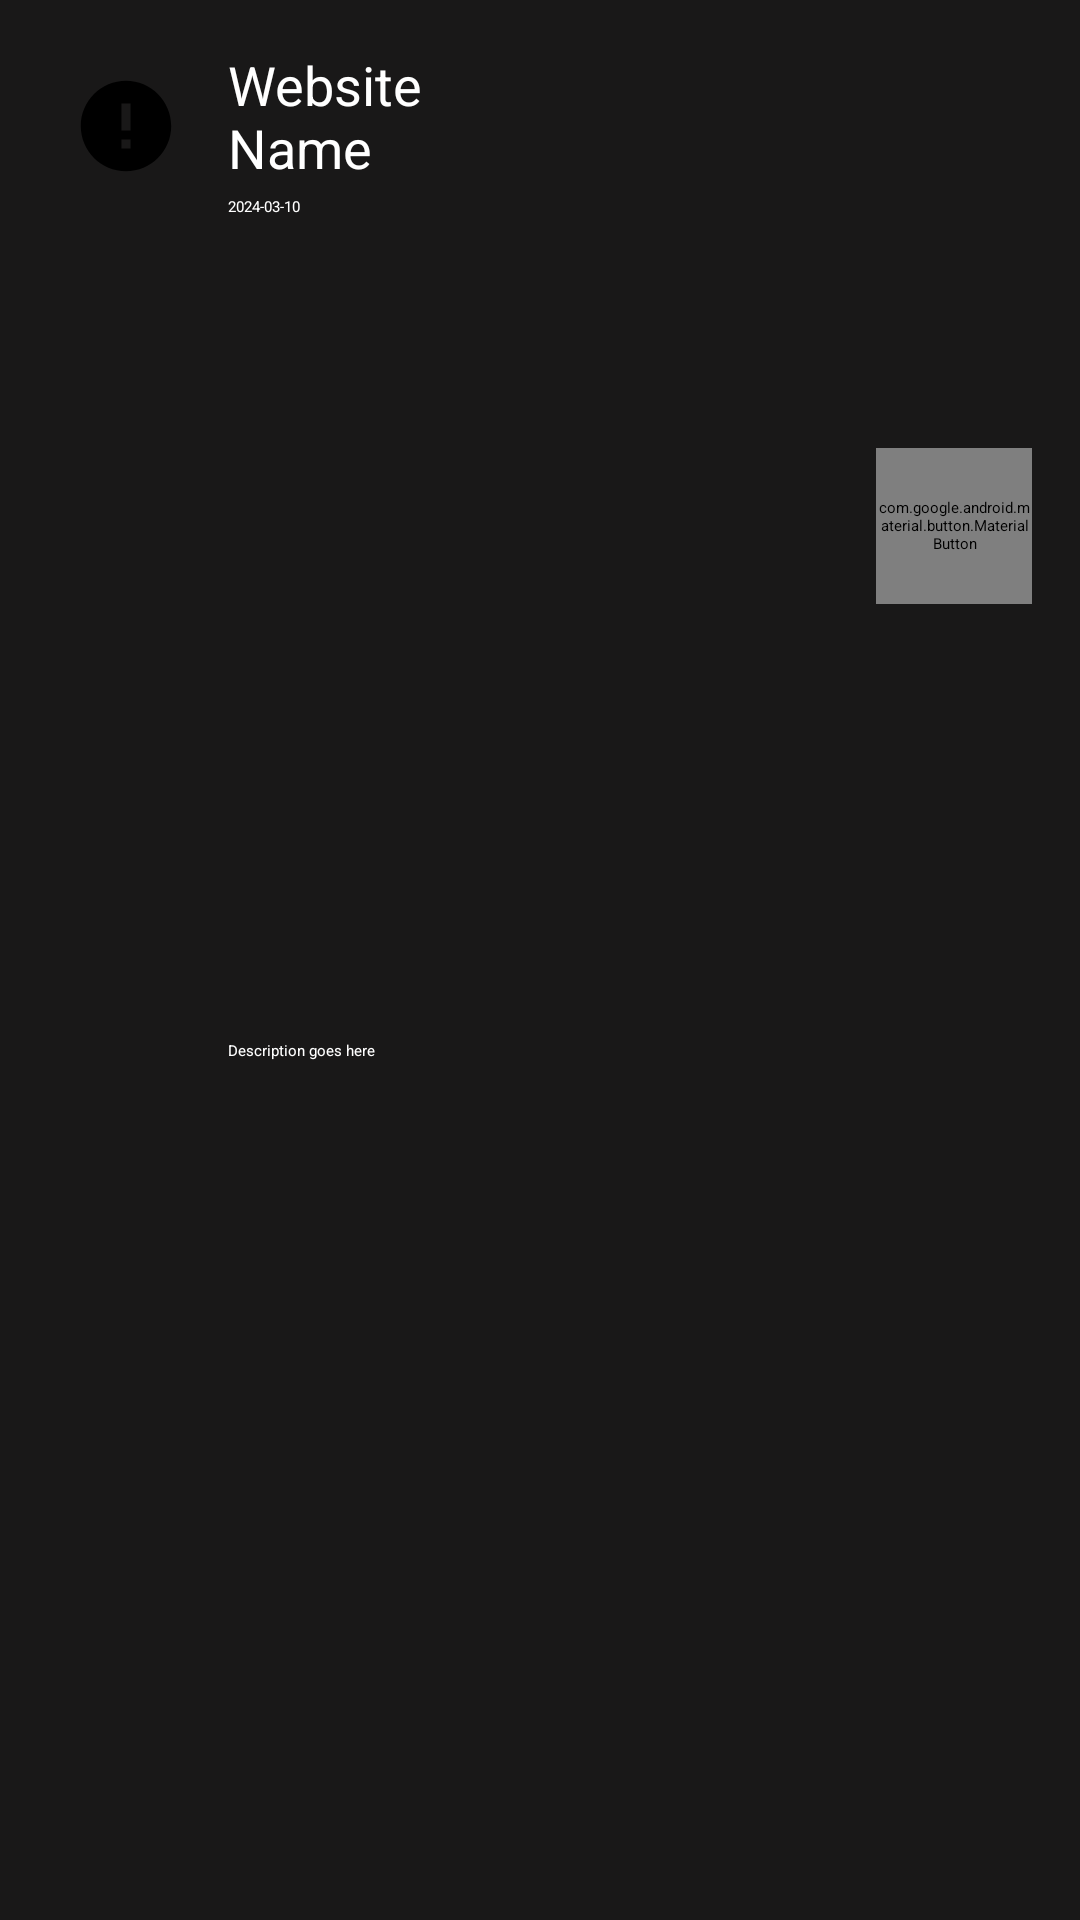

Icons on this 1080 x 1920 Android screen, each with the point to tap as (x,y):
site error: (126,126)
